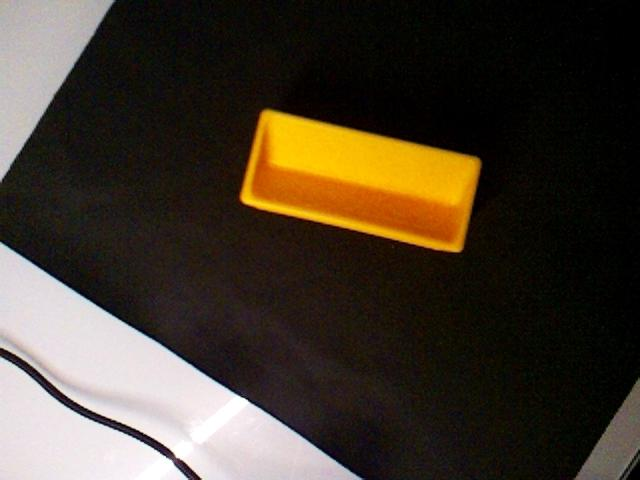yellow: (238, 106, 483, 255)
